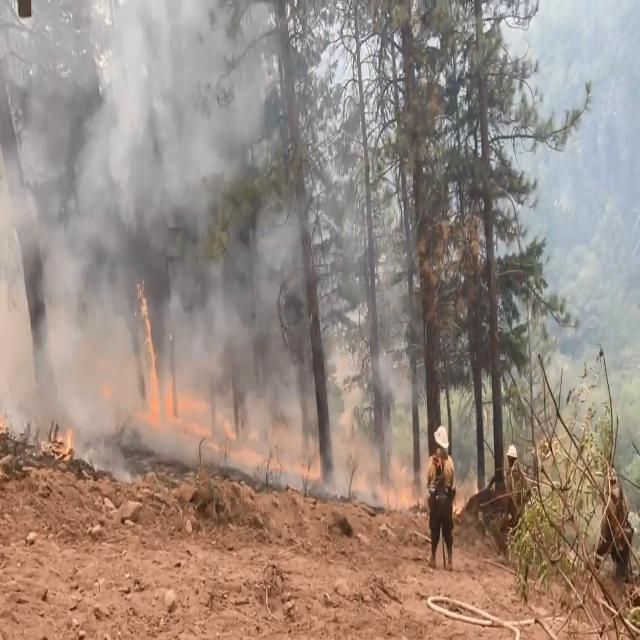Fire: (122, 278, 287, 471)
